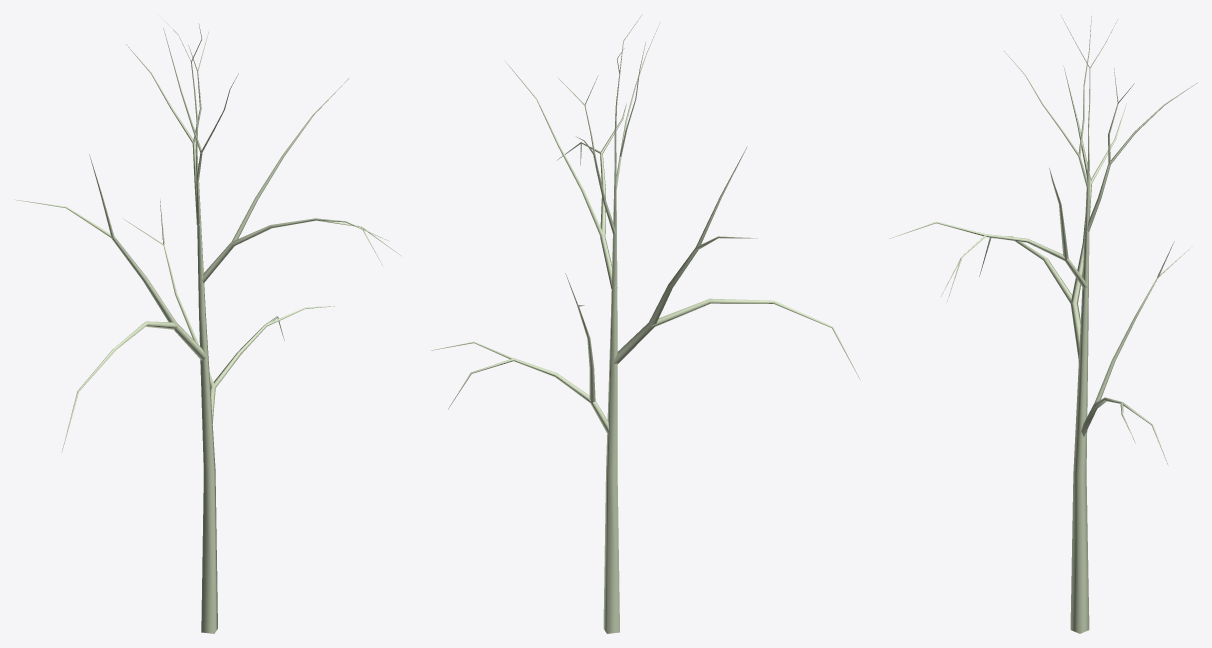
File: Drzewo.fbx
3 renders of one model, left to right at view 1: azimuth 30°, elevation 25°; view 2: azimuth 150°, elevation 25°; view 3: azimuth 270°, elevation 25°, orthographic. The views are drawn at different scales.
Parts seen in each view (by area): view 1: Drzewo; view 2: Drzewo; view 3: Drzewo.
Boxes of the visible parts, <box> form: Drzewo: <box>14,14,400,633</box>; Drzewo: <box>431,14,860,633</box>; Drzewo: <box>889,15,1197,633</box>.
Bounding box in the file's own units: 1.94 × 3.24 × 1.5.
